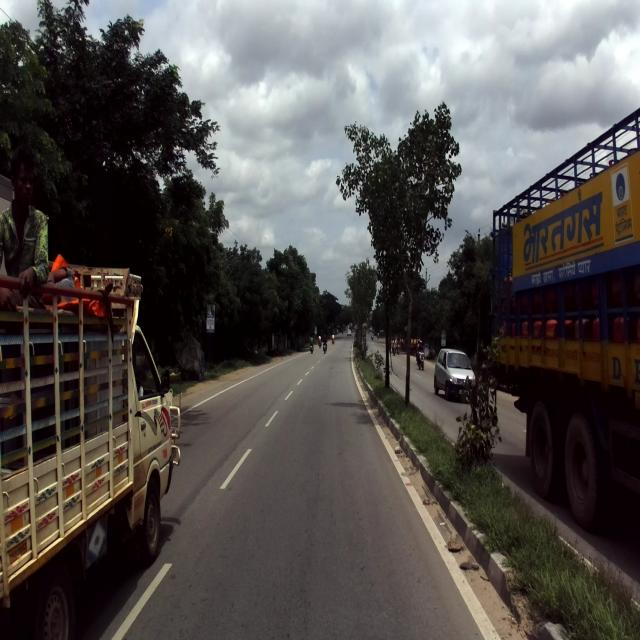truck: (1, 173, 180, 637), (488, 106, 638, 534)
